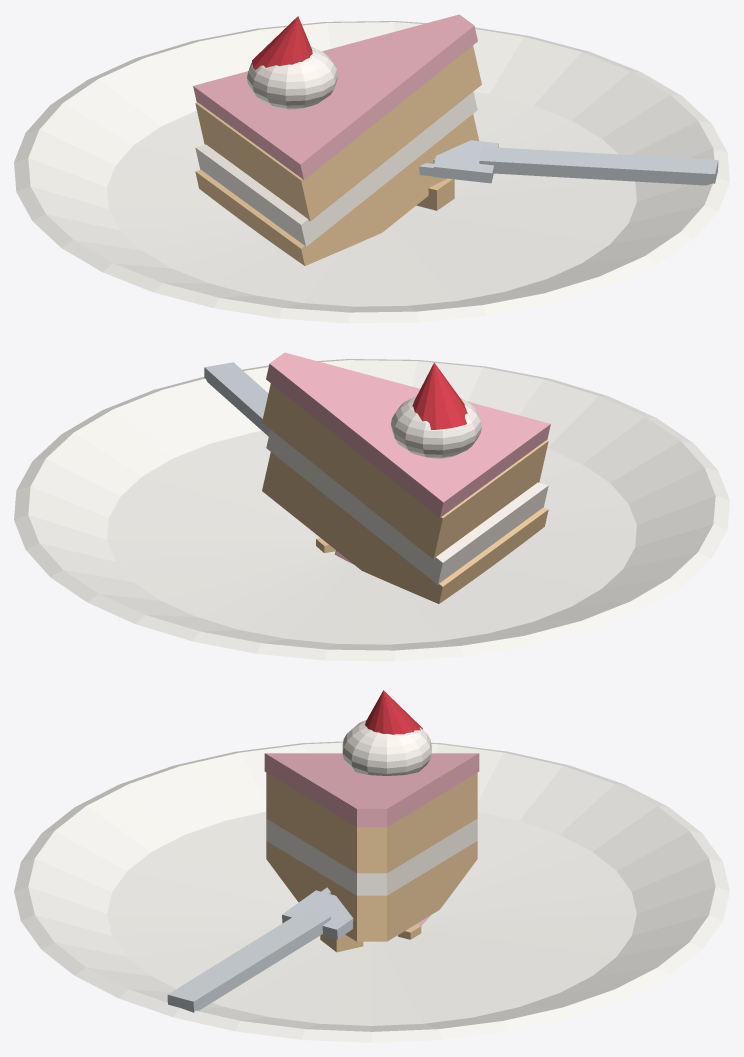
The model's file is cake.glb.
3 views of the same model, one above another, from view 1: azimuth 30°, elevation 25°; view 2: azimuth 150°, elevation 25°; view 3: azimuth 270°, elevation 25° (orthographic).
Parts seen in each view (by area): view 1: VesselMesh, CakeFullFrosting, CakeFullSponge, CakeFullCream, CakeDessertFork, CakePartialSponge, CakePartialCream, CakeFullBerry; view 2: VesselMesh, CakeFullFrosting, CakeFullSponge, CakeFullCream, CakePartialSponge, CakeDessertFork, CakeFullBerry, CakePartialCream; view 3: VesselMesh, CakeFullSponge, CakeFullFrosting, CakeFullCream, CakeDessertFork, CakeFullBerry.
Boxes of the visible parts, x1,y1,x2,y2 form: VesselMesh: (14, 21, 729, 323); CakeFullFrosting: (193, 14, 477, 179); CakeFullSponge: (195, 45, 481, 265); CakeFullCream: (195, 46, 477, 246); CakeDessertFork: (419, 140, 718, 185); CakePartialSponge: (195, 103, 454, 265); CakePartialCream: (195, 144, 307, 246); CakeFullBerry: (252, 16, 312, 69); VesselMesh: (14, 359, 729, 661); CakeFullFrosting: (266, 352, 550, 517); CakeFullSponge: (262, 383, 548, 603); CakeFullCream: (266, 396, 548, 584); CakePartialSponge: (434, 441, 548, 603); CakeDessertFork: (204, 362, 270, 436); CakeFullBerry: (412, 362, 467, 429); CakePartialCream: (436, 482, 548, 584); VesselMesh: (14, 741, 729, 1042); CakeFullSponge: (266, 773, 477, 941); CakeFullFrosting: (264, 753, 479, 827); CakeFullCream: (266, 720, 477, 895); CakeDessertFork: (167, 887, 353, 1012); CakeFullBerry: (365, 690, 422, 734).
Size of the model in its own units: 0.19 by 0.0659 by 0.19.
